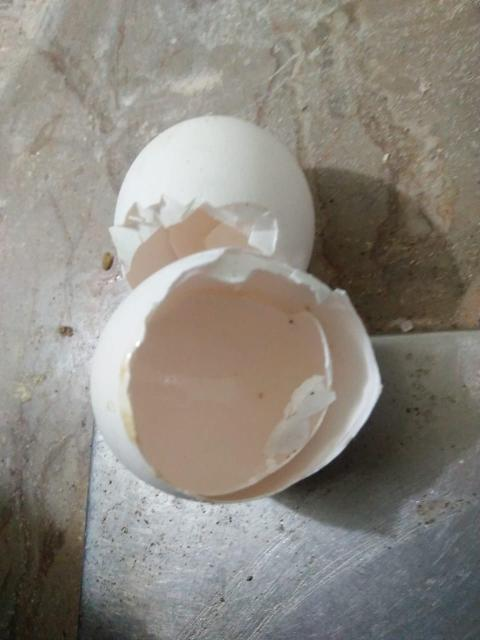Roto: (91, 248, 383, 502), (109, 112, 316, 290)
